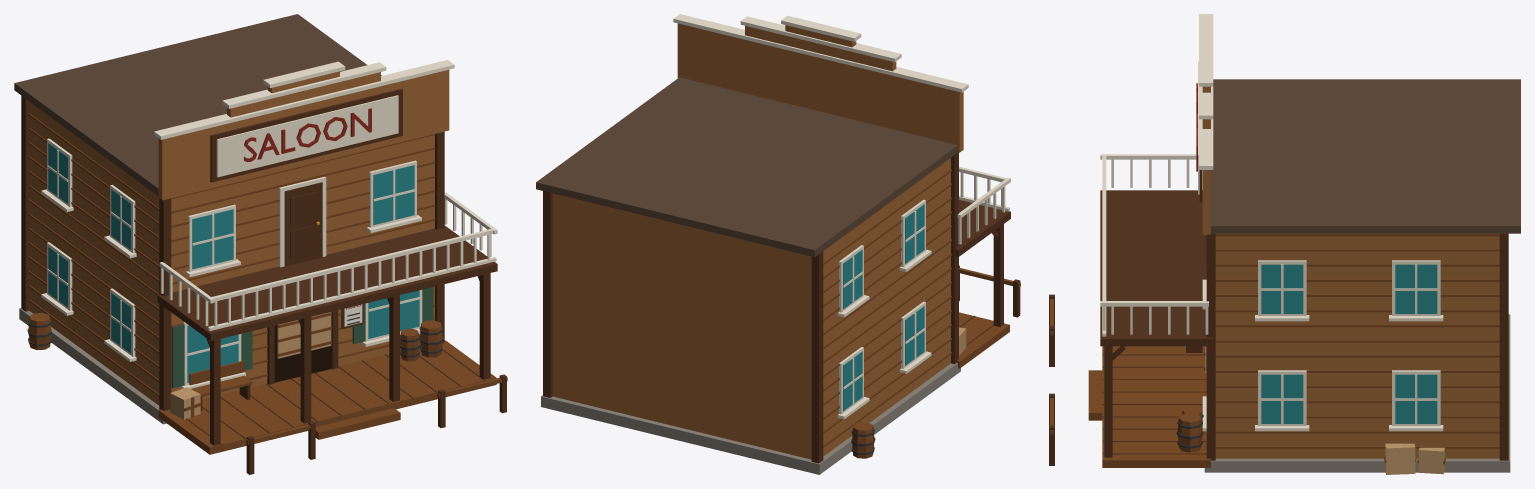
The model's file is Building_Saloon.fbx.
The picture shows the model from 3 angles, left to right: view 1: azimuth 30°, elevation 25°; view 2: azimuth 150°, elevation 25°; view 3: azimuth 270°, elevation 25°; orthographic projection. The views are drawn at different scales.
Parts seen in each view (by area): view 1: Building_Saloon; view 2: Building_Saloon; view 3: Building_Saloon.
Part boxes in pixels (bbox=[...]): Building_Saloon: bbox=[14, 14, 507, 474]; Building_Saloon: bbox=[536, 14, 1020, 474]; Building_Saloon: bbox=[1049, 14, 1520, 474].
Bounding box in the file's own units: 9.12 × 8.85 × 11.27.
